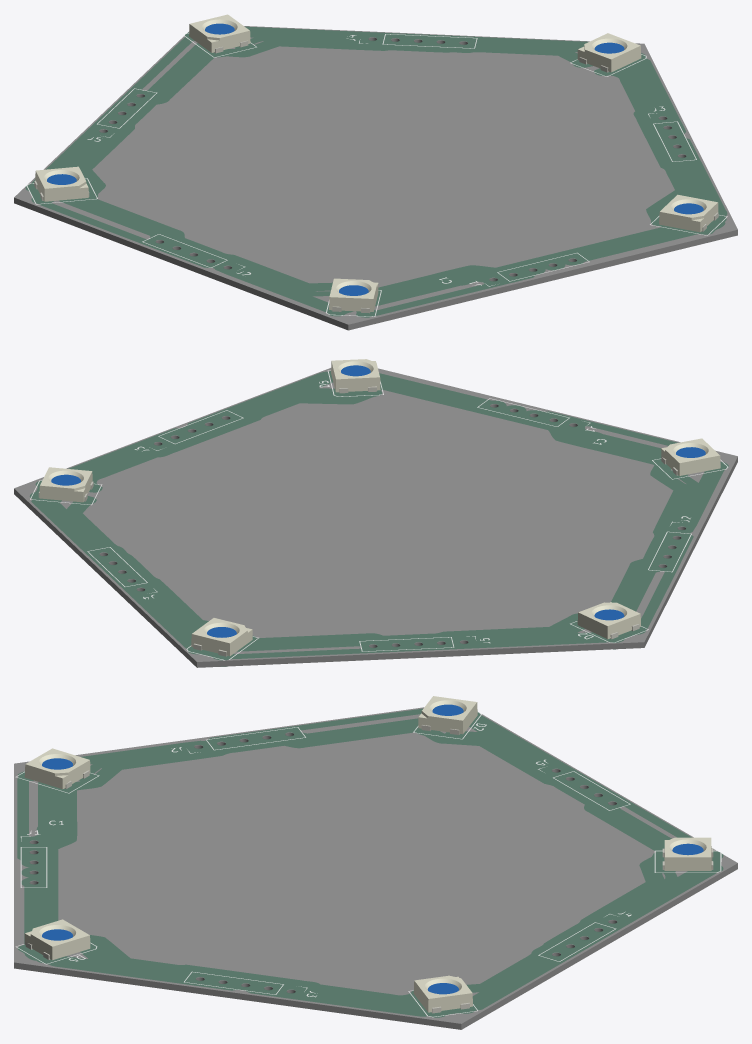
Rendered from 5-10-CsADUVAl.glb.
The picture shows the model from 3 angles, top to bottom: view 1: azimuth 30°, elevation 25°; view 2: azimuth 150°, elevation 25°; view 3: azimuth 270°, elevation 25°; orthographic projection. The views are drawn at different scales.
Parts seen in each view (by area): view 1: =>[0:1:1:5], =>[0:1:1:4], =>[0:1:1:3], D4, D3, D5, D2, D1; view 2: =>[0:1:1:5], =>[0:1:1:4], =>[0:1:1:3], D2, D3, D1, D4, D5; view 3: =>[0:1:1:5], =>[0:1:1:4], =>[0:1:1:3], D1, D5, D2, D4, D3.
Part boxes in pixels (box(x1,y1,x2,y2)): =>[0:1:1:5]: box(14, 26, 737, 330); =>[0:1:1:4]: box(25, 26, 727, 317); =>[0:1:1:3]: box(26, 33, 727, 316); D4: box(577, 33, 641, 72); D3: box(189, 14, 250, 53); D5: box(659, 194, 718, 232); D2: box(34, 166, 89, 201); D1: box(329, 278, 378, 313); =>[0:1:1:5]: box(14, 368, 737, 667); =>[0:1:1:4]: box(29, 371, 728, 666); =>[0:1:1:3]: box(30, 370, 728, 660); D2: box(577, 602, 640, 639); D3: box(191, 618, 252, 656); D1: box(661, 438, 720, 475); D4: box(38, 467, 93, 502); D5: box(331, 359, 380, 393); =>[0:1:1:5]: box(14, 707, 737, 1029); =>[0:1:1:4]: box(17, 708, 723, 1017); =>[0:1:1:3]: box(15, 712, 721, 1017); D1: box(24, 748, 90, 789); D5: box(24, 919, 90, 960); D2: box(418, 696, 477, 734); D4: box(413, 975, 472, 1013); D3: box(662, 837, 713, 870).
Size of the model in its own units: 0.0809 by 0.00257 by 0.0769.
